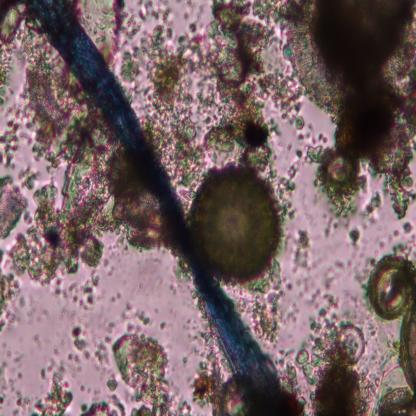Background material: (153, 0, 275, 196), (7, 113, 124, 276), (335, 108, 416, 220), (114, 322, 193, 416), (278, 347, 366, 416), (206, 116, 286, 186), (361, 317, 413, 416), (122, 0, 180, 87), (187, 306, 231, 414), (292, 283, 340, 375), (245, 263, 294, 344), (81, 0, 132, 68), (256, 66, 311, 127), (0, 92, 38, 172), (44, 262, 103, 312), (0, 0, 28, 99), (294, 118, 332, 189), (42, 351, 79, 416), (0, 266, 33, 333), (73, 319, 113, 370), (272, 167, 305, 224), (14, 16, 53, 64), (373, 218, 416, 258), (319, 194, 354, 236), (83, 378, 121, 416), (0, 330, 26, 381), (292, 224, 315, 275), (120, 295, 150, 330), (352, 191, 382, 220), (325, 256, 347, 286), (10, 380, 27, 416), (0, 360, 9, 407), (29, 395, 44, 416), (350, 226, 358, 246), (104, 260, 113, 275), (296, 147, 304, 159), (114, 295, 124, 304), (161, 322, 166, 331)
Cotton: (32, 0, 294, 416)
Diatom: (281, 0, 416, 120), (191, 161, 293, 287), (112, 174, 162, 246), (25, 56, 76, 123), (366, 255, 416, 322), (331, 320, 367, 367), (397, 300, 416, 388), (0, 175, 23, 240), (324, 152, 361, 190), (219, 372, 246, 416)
